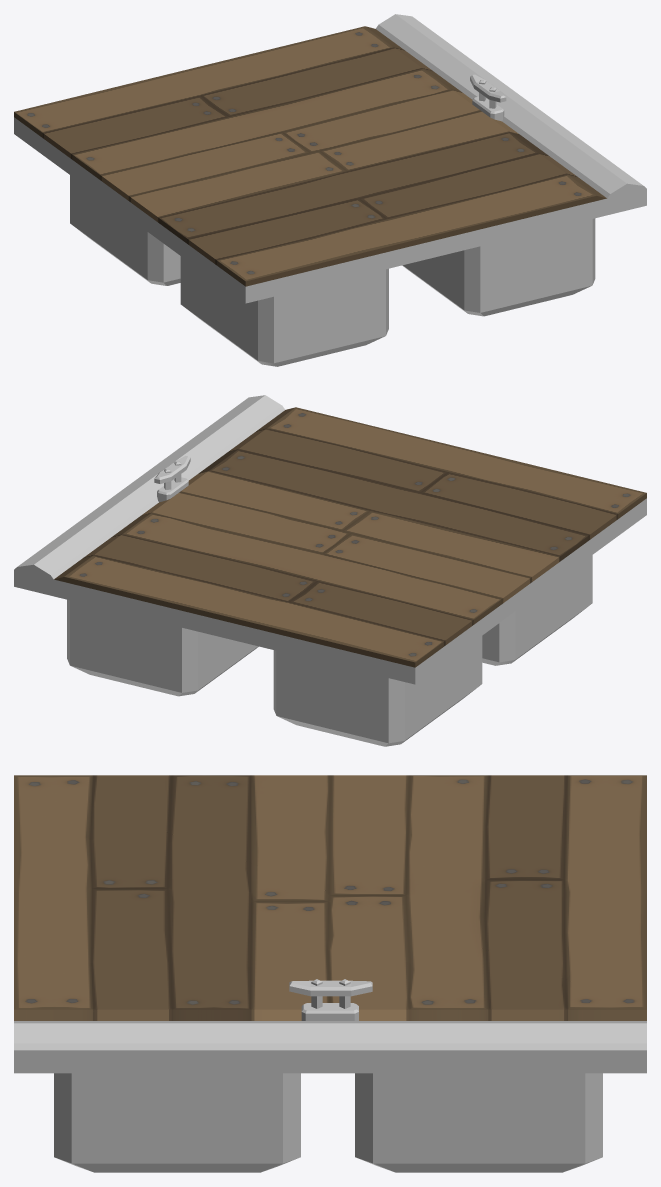
File: SM_Bld_Dock_Platform_02.fbx
3 renders of one model, top to bottom at view 1: azimuth 30°, elevation 25°; view 2: azimuth 150°, elevation 25°; view 3: azimuth 270°, elevation 25°, orthographic. The views are drawn at different scales.
Parts seen in each view (by area): view 1: SM_Bld_Dock_Platform_02; view 2: SM_Bld_Dock_Platform_02; view 3: SM_Bld_Dock_Platform_02.
Part boxes in pixels (box(x1,y1,x2,y2)): SM_Bld_Dock_Platform_02: box(14, 14, 646, 366); SM_Bld_Dock_Platform_02: box(14, 395, 646, 746); SM_Bld_Dock_Platform_02: box(14, 775, 646, 1172).
Size of the model in its own units: 250 by 83.51 by 250.
